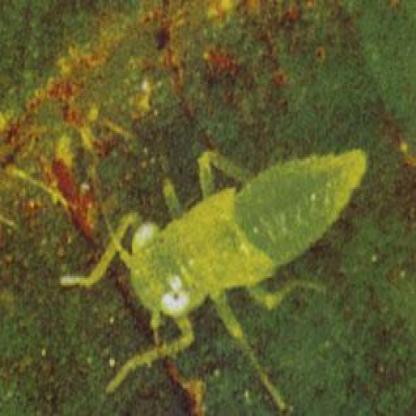Green-Leafhopper: (59, 142, 374, 396)
